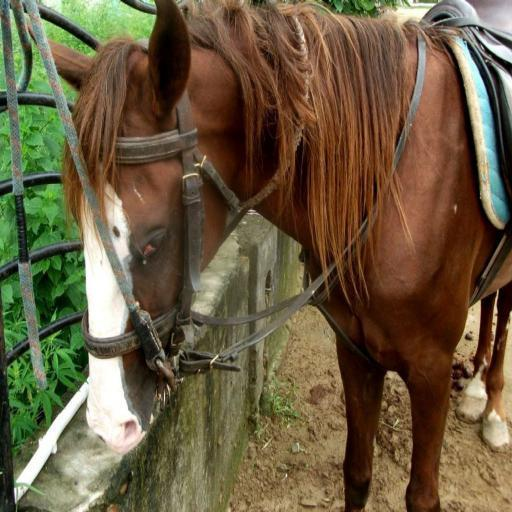horse: (25, 0, 511, 511)
